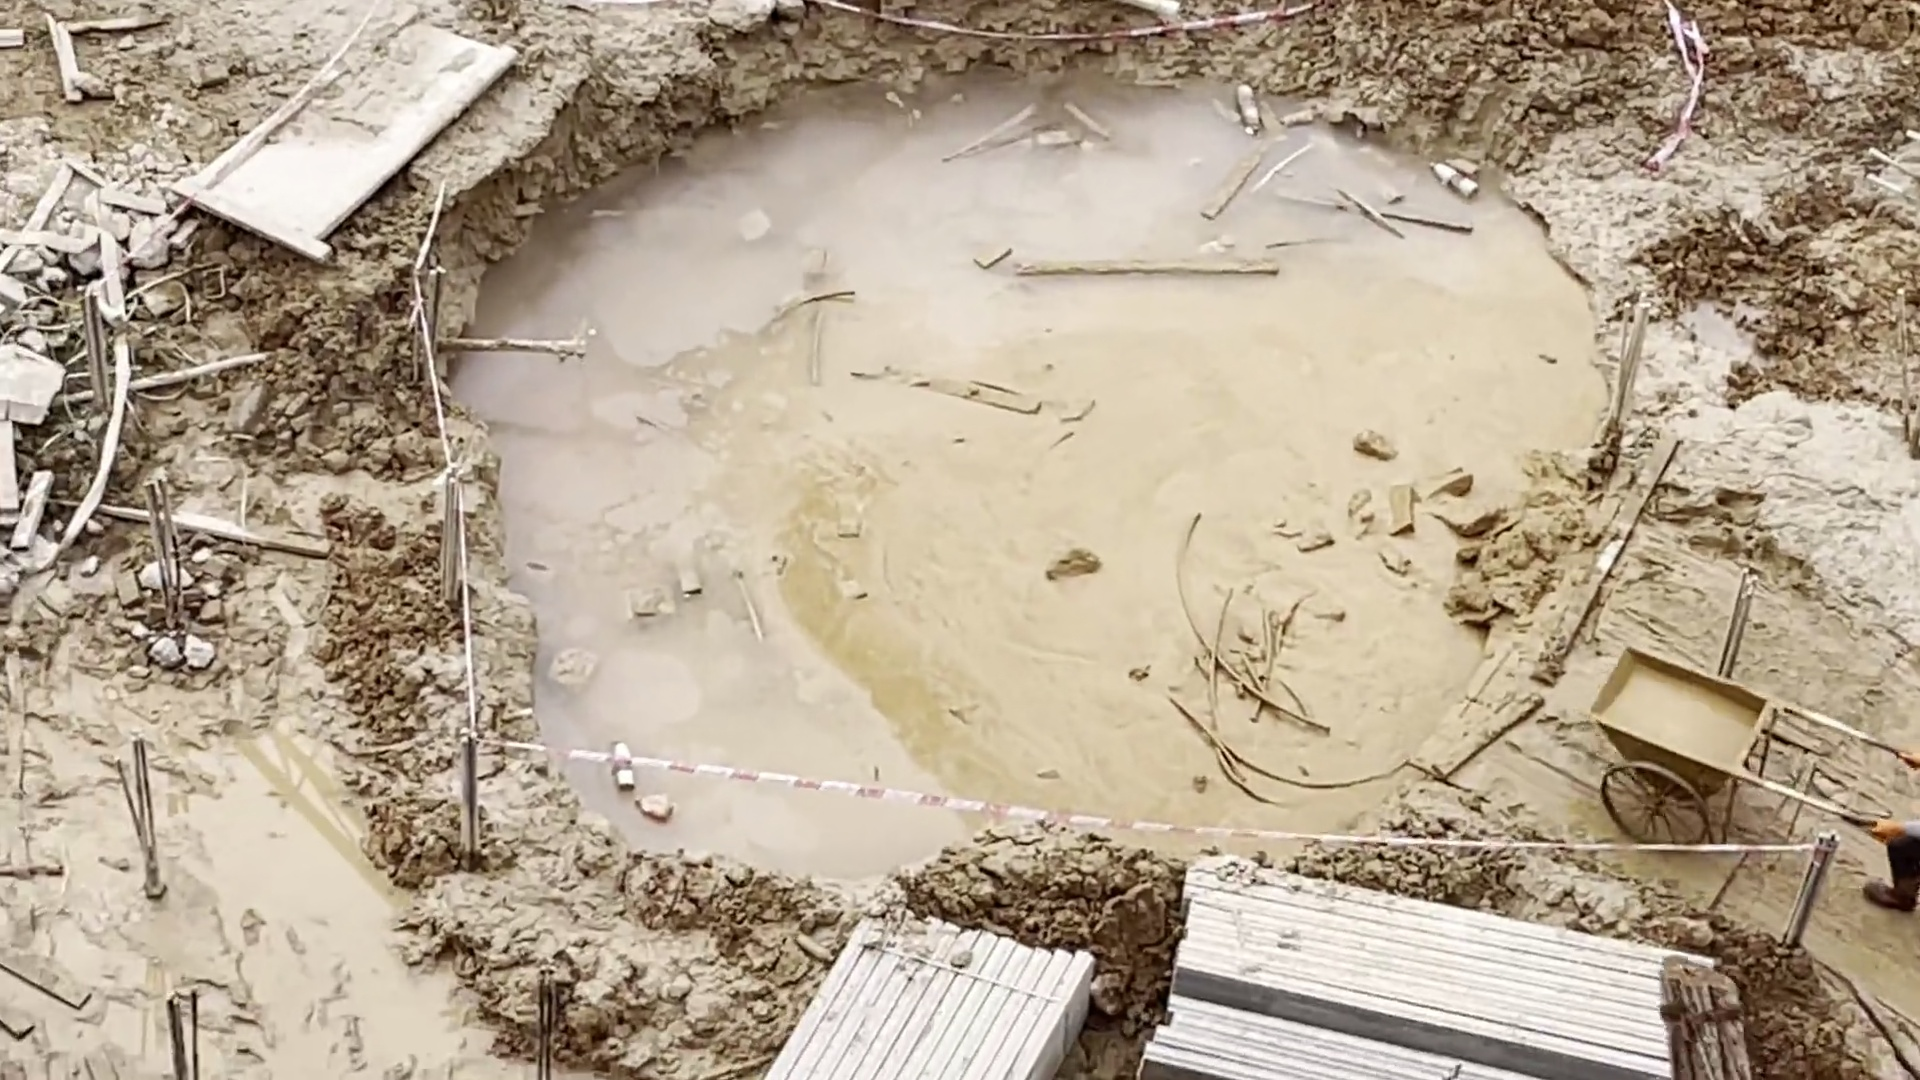handcart: (1597, 654, 1876, 851)
